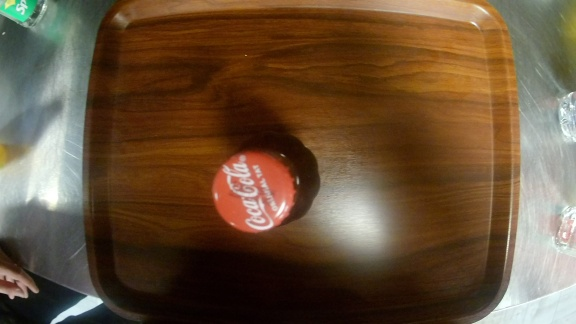camkola: (209, 130, 326, 235)
